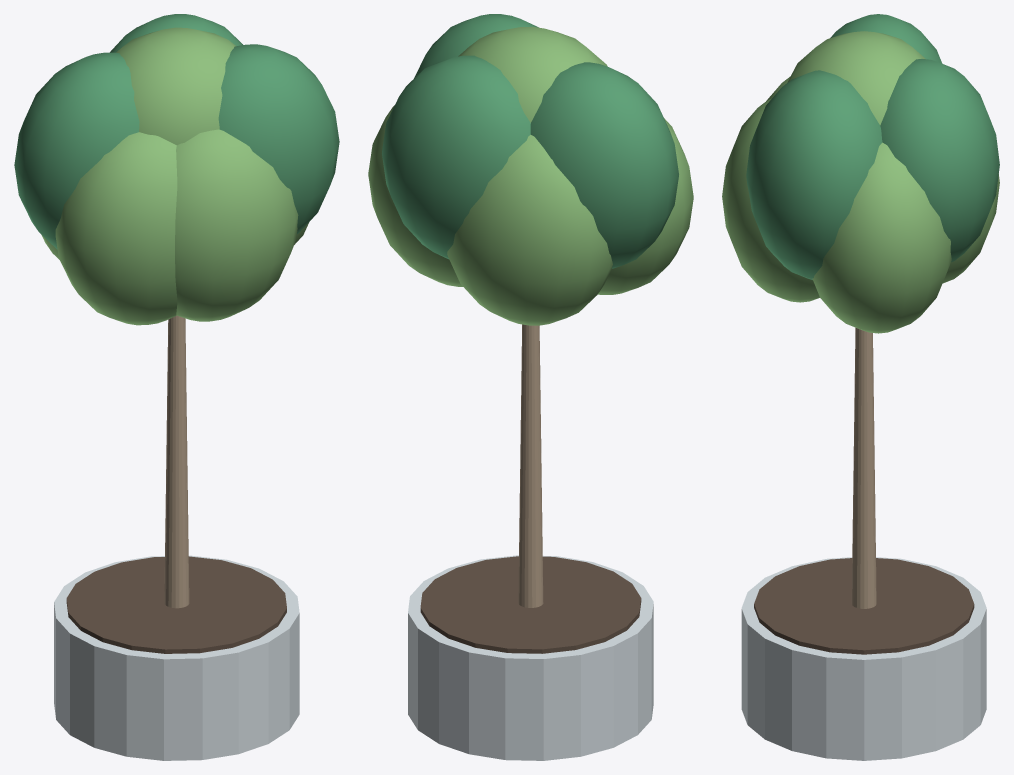
The model's file is public_06.glb.
The picture shows the model from 3 angles, left to right: view 1: azimuth 30°, elevation 25°; view 2: azimuth 150°, elevation 25°; view 3: azimuth 270°, elevation 25°; orthographic projection.
Visible parts, largest first — view 1: TreeCrown (×5), TreePlanter, TreeSoil, CrownTop, TreeTrunk; view 2: TreeCrown (×6), TreePlanter, TreeSoil, TreeTrunk, CrownTop; view 3: TreeCrown (×6), TreePlanter, TreeSoil, TreeTrunk, CrownTop.
Part boxes in pixels (x1=…): TreeCrown (×5): x1=14, y1=14, x2=339, y2=325; TreePlanter: x1=54, y1=555, x2=299, y2=760; TreeSoil: x1=66, y1=556, x2=286, y2=653; CrownTop: x1=116, y1=27, x2=236, y2=145; TreeTrunk: x1=164, y1=315, x2=189, y2=608; TreeCrown (×6): x1=368, y1=14, x2=693, y2=325; TreePlanter: x1=408, y1=555, x2=653, y2=760; TreeSoil: x1=420, y1=556, x2=641, y2=653; TreeTrunk: x1=518, y1=324, x2=543, y2=607; CrownTop: x1=458, y1=26, x2=607, y2=123; TreeCrown (×6): x1=722, y1=14, x2=999, y2=333; TreePlanter: x1=741, y1=557, x2=986, y2=760; TreeSoil: x1=754, y1=558, x2=974, y2=654; TreeTrunk: x1=851, y1=327, x2=876, y2=608; CrownTop: x1=787, y1=31, x2=925, y2=125.
Size of the model in its own units: 1.21 by 2.65 by 0.9972.
